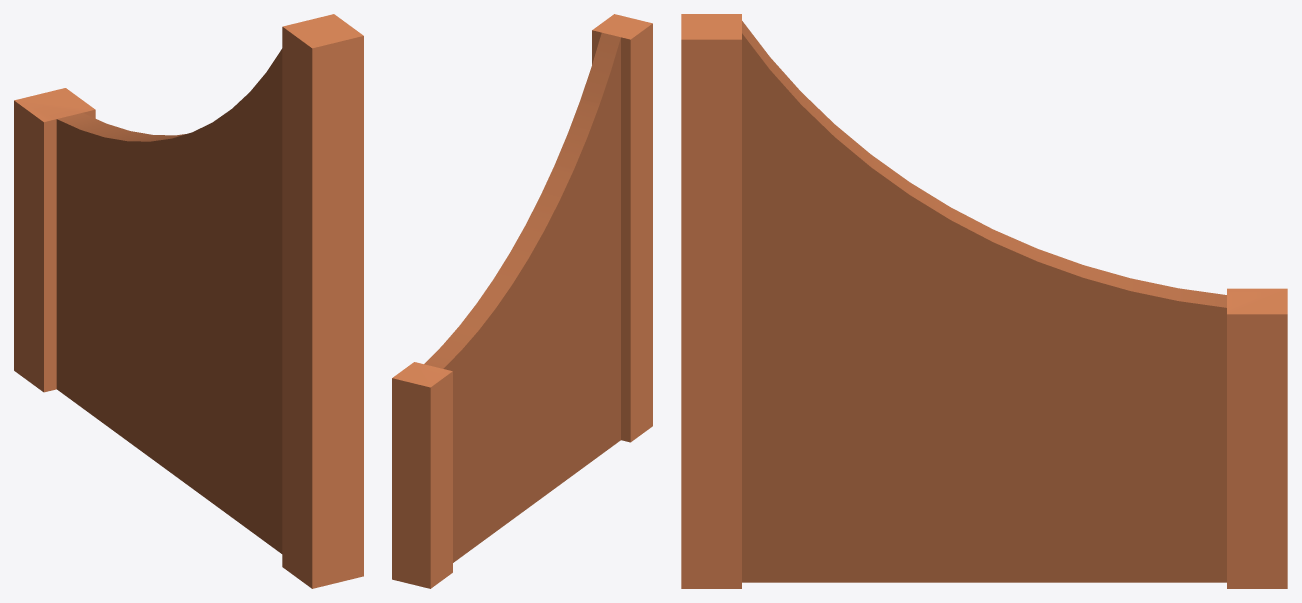
File: wallWoodSlope.fbx
3 views of the same model, side by side, from view 1: azimuth 30°, elevation 25°; view 2: azimuth 150°, elevation 25°; view 3: azimuth 270°, elevation 25° (orthographic). The views are drawn at different scales.
Visible parts, largest first — view 1: wallWoodSlope; view 2: wallWoodSlope; view 3: wallWoodSlope.
Boxes of the visible parts, x1=… form: wallWoodSlope: x1=14, y1=14, x2=363, y2=588; wallWoodSlope: x1=392, y1=14, x2=652, y2=588; wallWoodSlope: x1=681, y1=14, x2=1287, y2=588.
Size of the model in its own units: 1 by 10 by 10.
